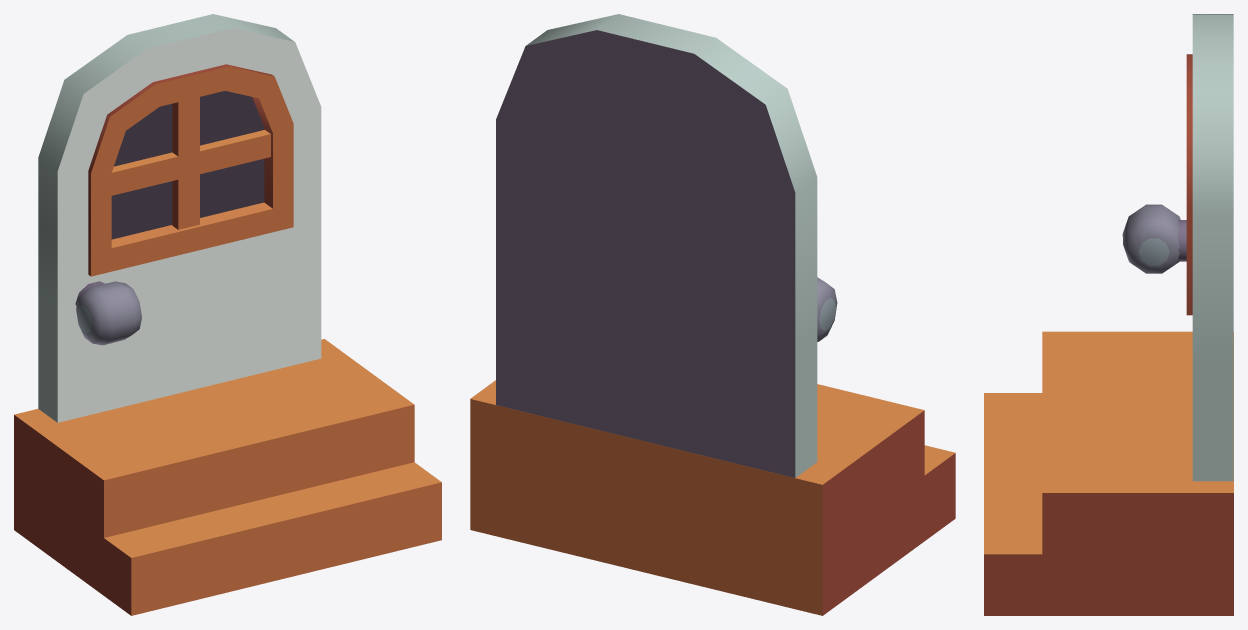
The model's file is Door01_White_Wood.glb.
The picture shows the model from 3 angles, left to right: view 1: azimuth 30°, elevation 25°; view 2: azimuth 150°, elevation 25°; view 3: azimuth 270°, elevation 25°; orthographic projection. The views are drawn at different scales.
Visible parts, largest first — view 1: Door01_White_Wood; view 2: Door01_White_Wood; view 3: Door01_White_Wood.
Part boxes in pixels (x1,y1,x2,y2): Door01_White_Wood: (14, 14, 441, 615); Door01_White_Wood: (470, 14, 955, 615); Door01_White_Wood: (984, 14, 1233, 615).
Size of the model in its own units: 0.9795 by 1.41 by 0.6407.
1 material, 1 textured.
